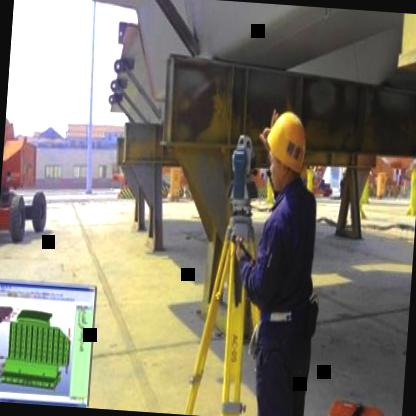helmet: (261, 106, 313, 194)
